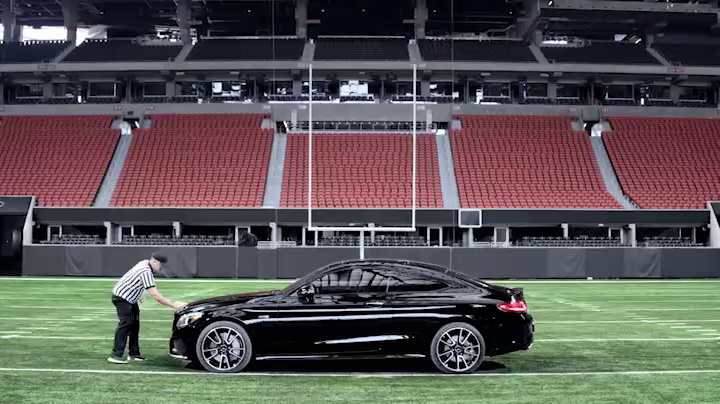amg: (170, 255, 535, 369)
